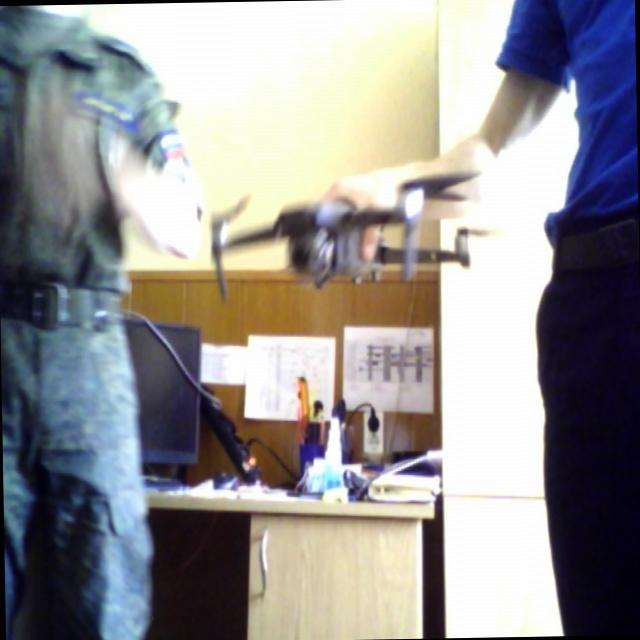drone: (201, 154, 505, 304)
